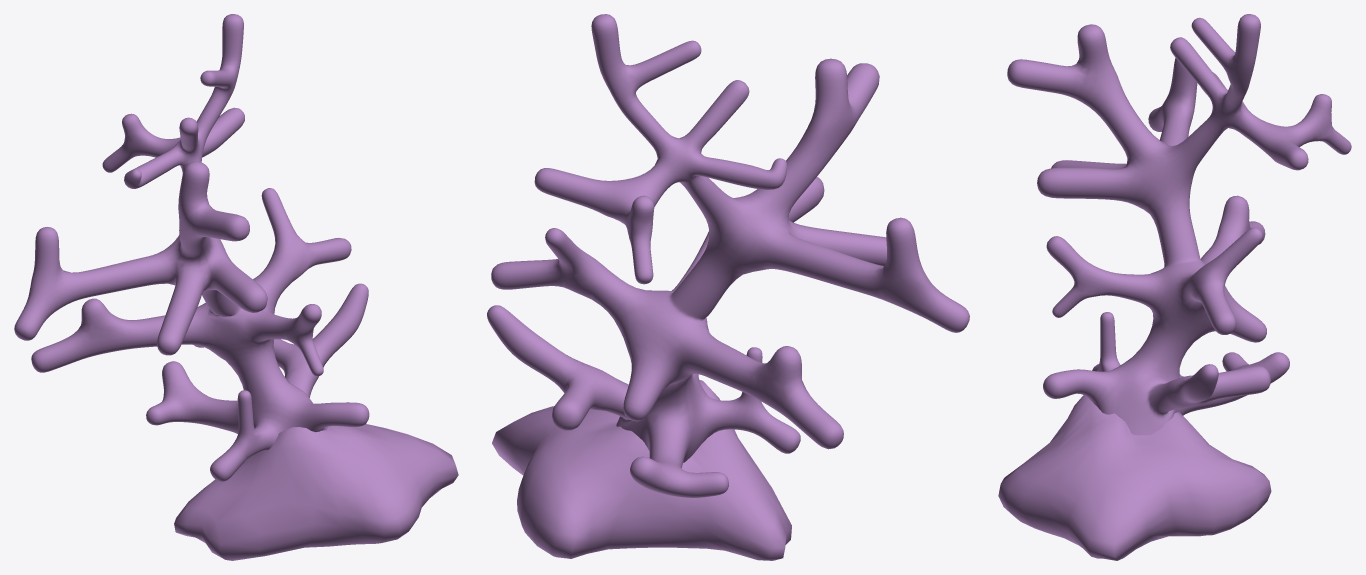
Rendered from coralreef2.glb.
3 views of the same model, side by side, from view 1: azimuth 30°, elevation 25°; view 2: azimuth 150°, elevation 25°; view 3: azimuth 270°, elevation 25° (orthographic). The views are drawn at different scales.
Parts seen in each view (by area): view 1: Cube; view 2: Cube; view 3: Cube.
Part boxes in pixels (x1,y1,x2,y2): Cube: [14, 14, 458, 560]; Cube: [487, 14, 969, 560]; Cube: [998, 14, 1351, 560].
Size of the model in its own units: 4.91 by 5.37 by 3.44.
